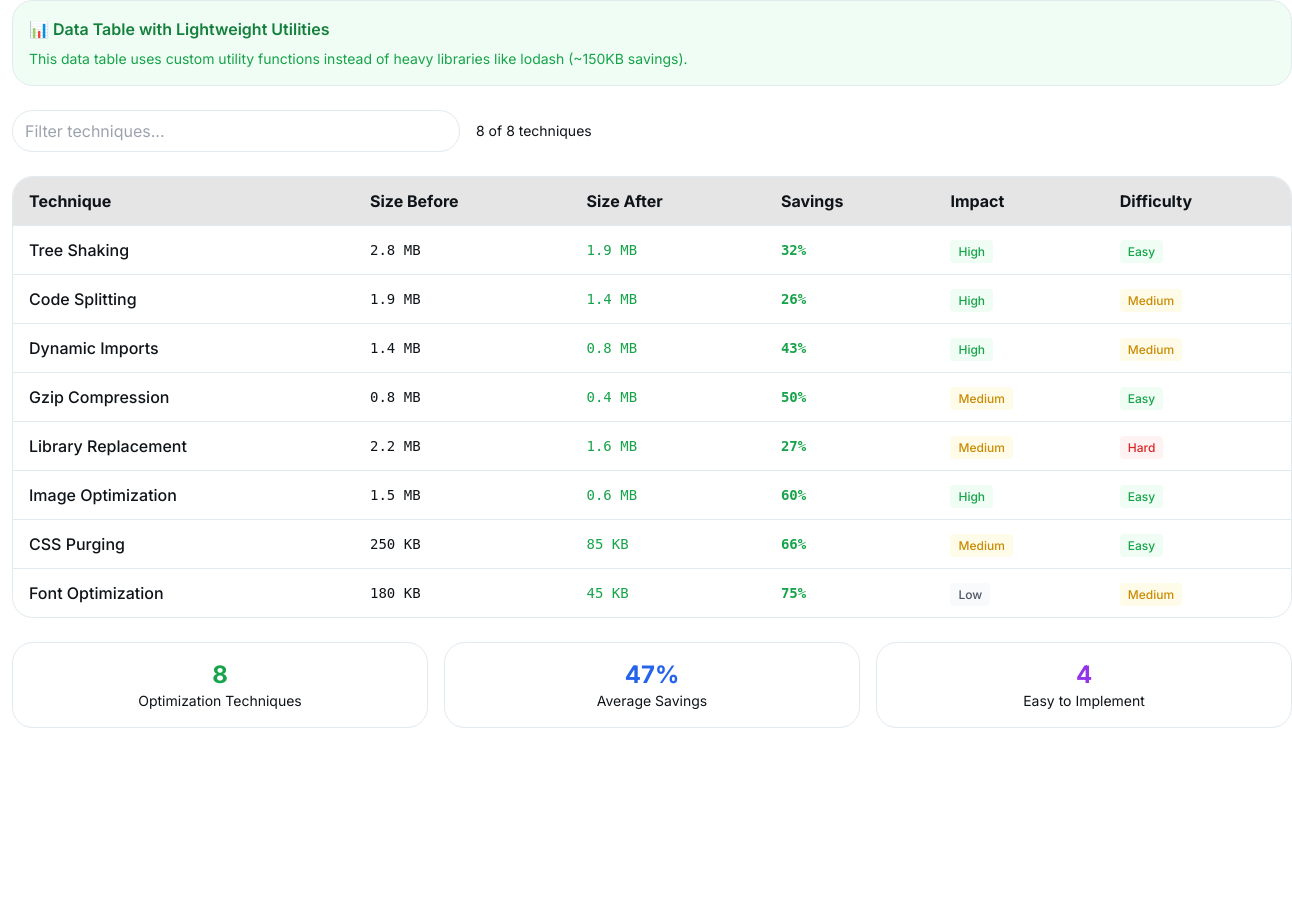
it: DataTable Component › sorts techniques when column headers are clicked
# Click to sort
Click the text "Technique" at point(70, 201), box [29,189,111,213]
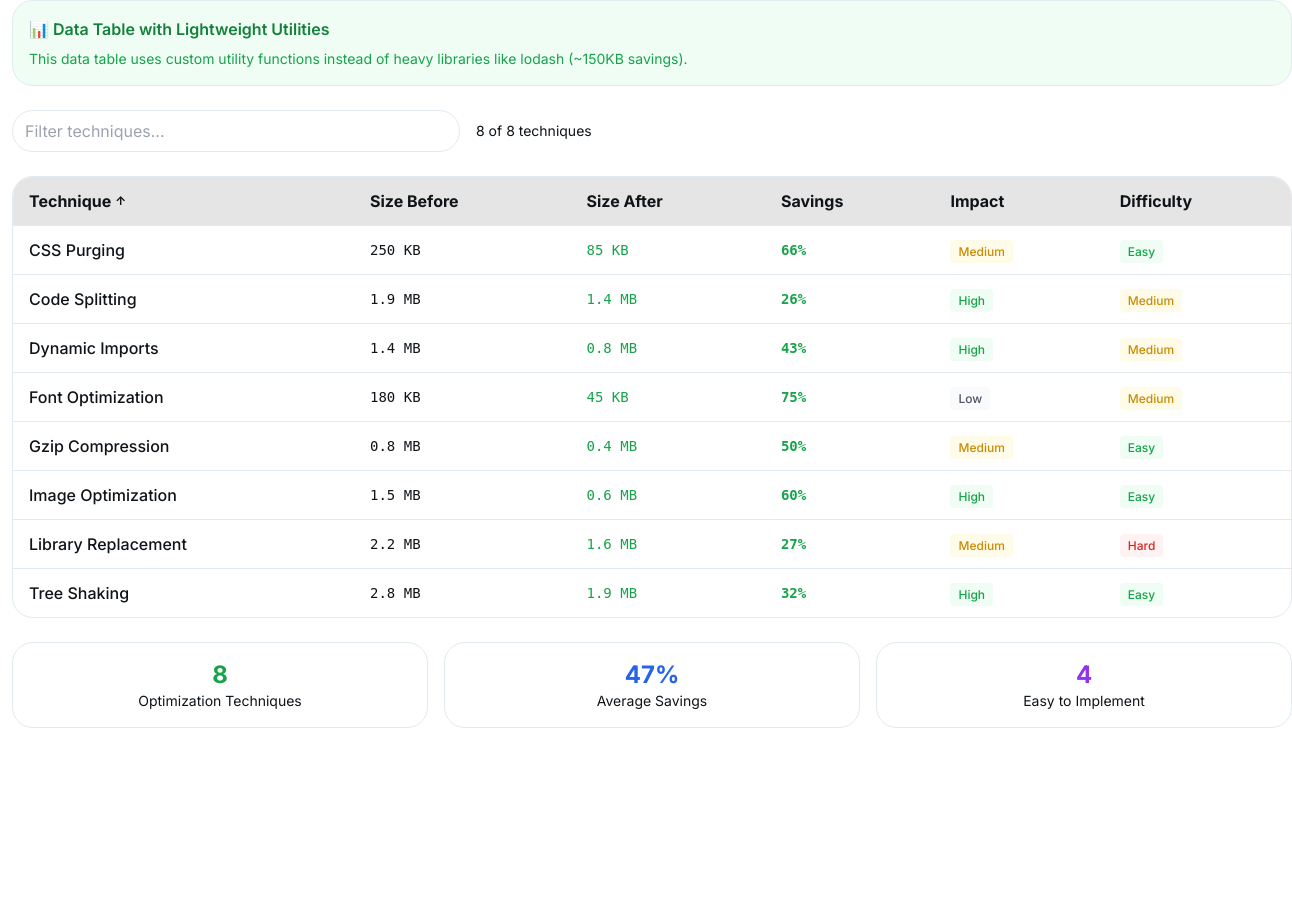
Result: the text "↑" is shown at [115,193,126,209]
